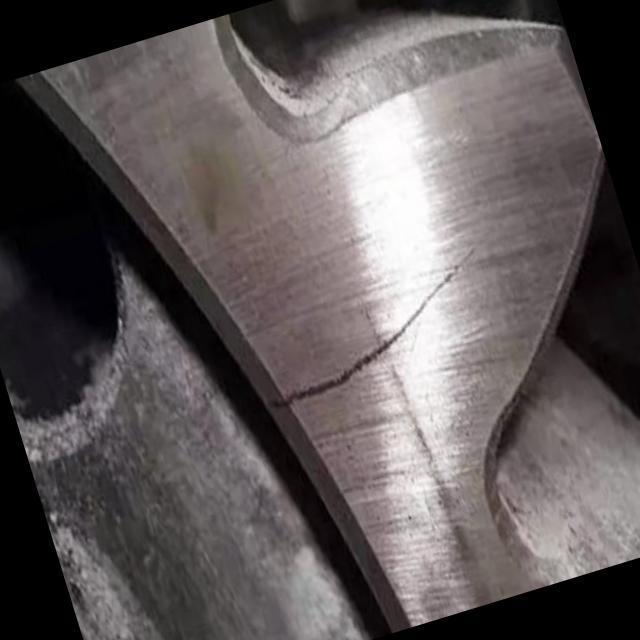defect: (267, 237, 482, 411)
